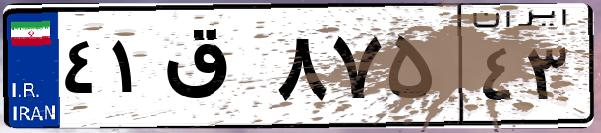1: (110, 28, 158, 98)
3: (525, 38, 570, 115)
4: (57, 26, 110, 100), (475, 38, 525, 113)
5: (385, 28, 445, 110)
7: (330, 28, 385, 110)
8: (270, 28, 330, 110)
ق: (158, 20, 270, 120)
